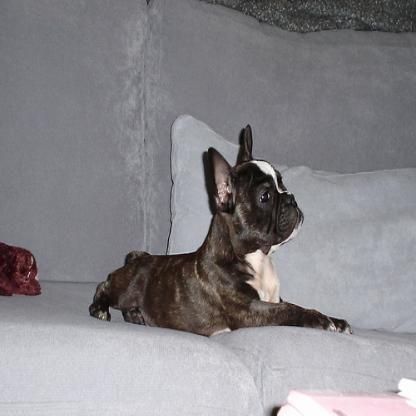French_bulldog: (86, 121, 354, 338)
